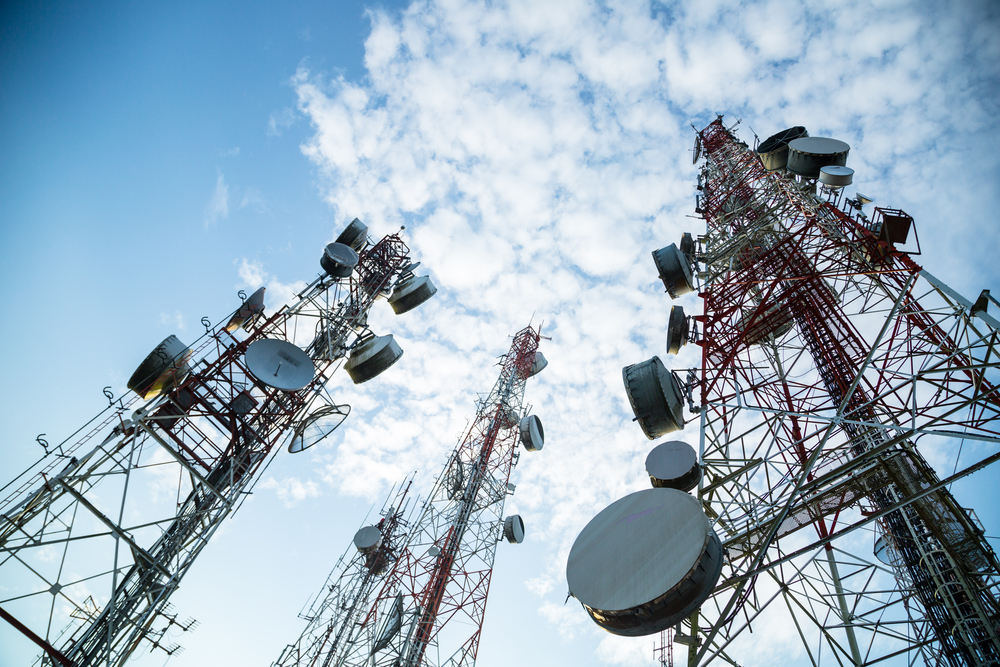ba: (562, 466, 722, 628), (608, 341, 680, 443), (120, 317, 194, 405), (637, 231, 699, 308), (340, 322, 400, 393), (782, 119, 841, 185), (629, 433, 698, 484), (386, 258, 438, 322), (312, 230, 360, 289)
